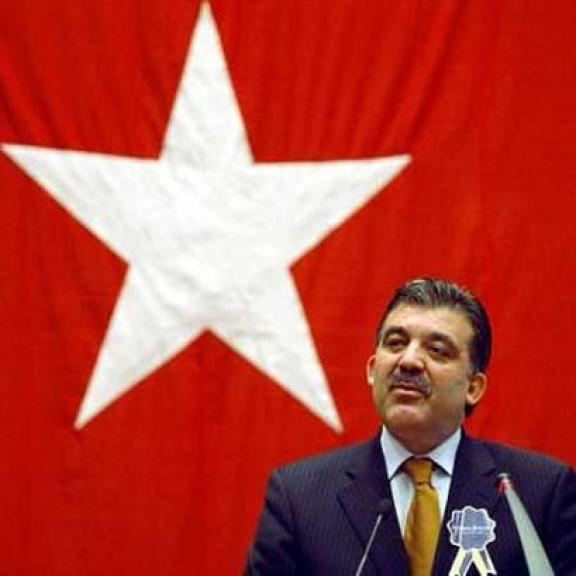face: (362, 300, 495, 435)
